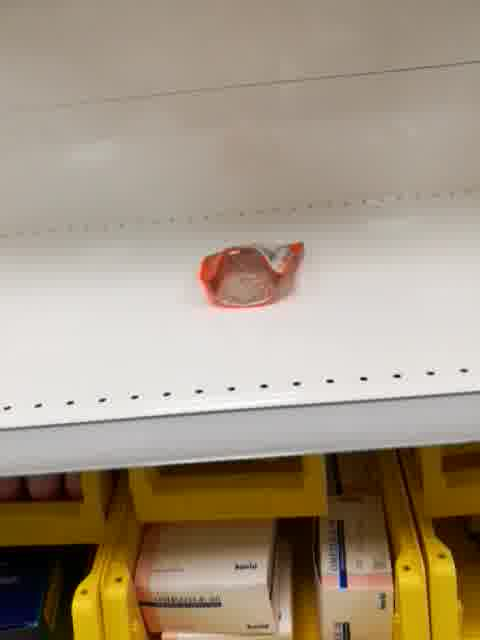whitechia: (195, 239, 304, 310)
